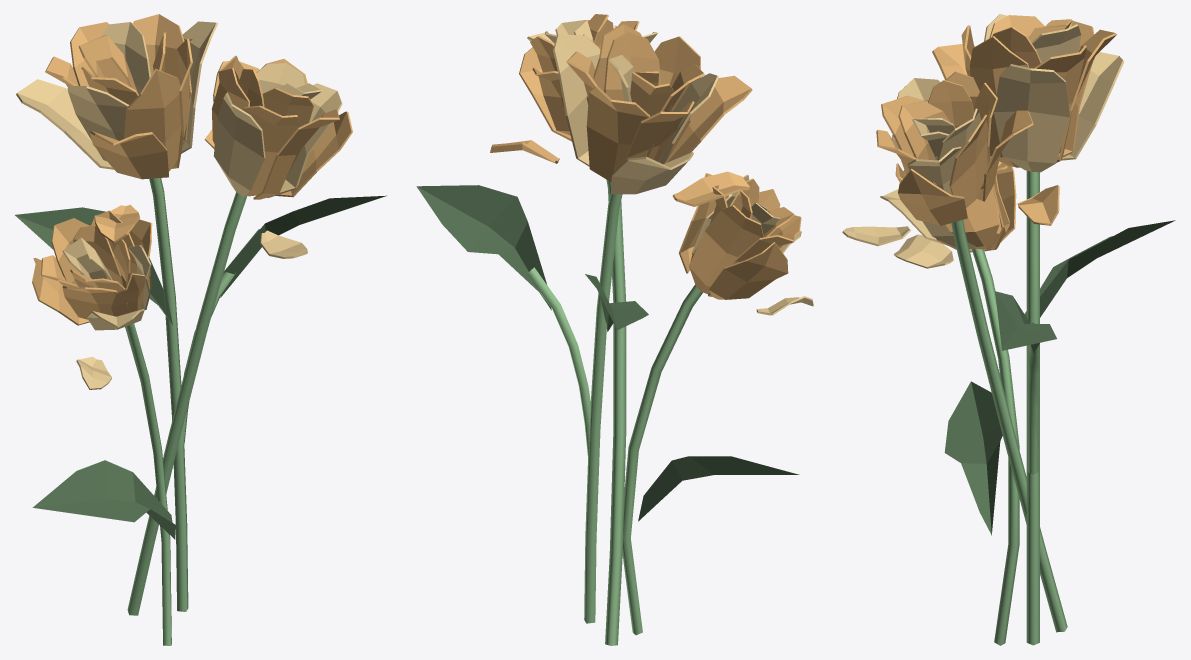
File: roses2.glb
3 renders of one model, left to right at view 1: azimuth 30°, elevation 25°; view 2: azimuth 150°, elevation 25°; view 3: azimuth 270°, elevation 25°, orthographic. The views are drawn at different scales.
Parts seen in each view (by area): view 1: Plane.015; view 2: Plane.015; view 3: Plane.015.
Boxes of the visible parts, left/top/right/bottom form: Plane.015: left=15, top=14, right=386, bottom=645; Plane.015: left=416, top=14, right=813, bottom=645; Plane.015: left=842, top=14, right=1175, bottom=645.
Bounding box in the file's own units: 4.59 × 7.2 × 3.52.
